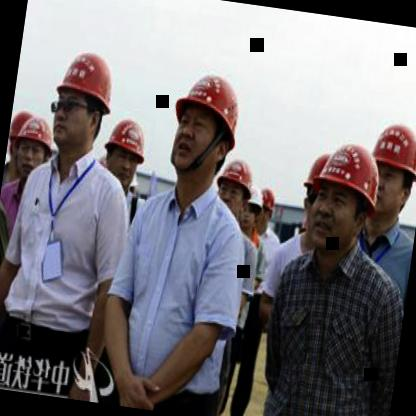helmet: (306, 140, 390, 260), (164, 62, 244, 186), (46, 44, 116, 160), (361, 119, 416, 233), (94, 112, 154, 194), (9, 108, 58, 184), (295, 147, 332, 232), (212, 156, 256, 224), (236, 174, 270, 233), (3, 102, 30, 174), (252, 186, 279, 236)
